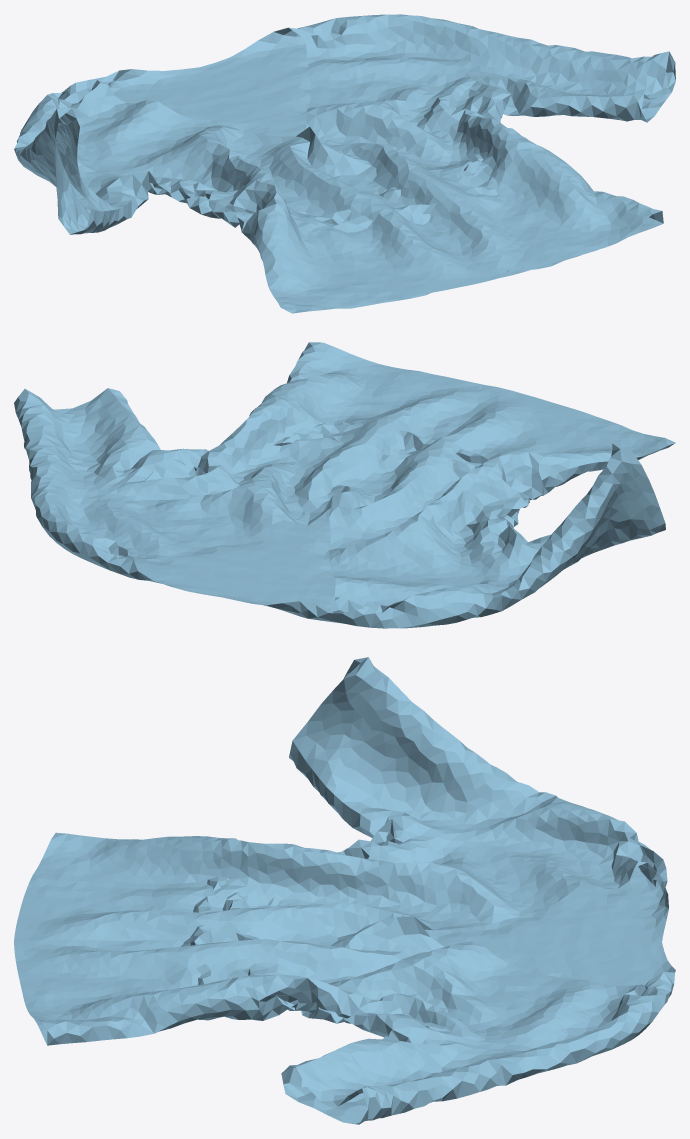
File: frame_06.glb
3 renders of one model, top to bottom at view 1: azimuth 30°, elevation 25°; view 2: azimuth 150°, elevation 25°; view 3: azimuth 270°, elevation 25°, orthographic. The views are drawn at different scales.
Visible parts, largest first — view 1: frame_06.obj; view 2: frame_06.obj; view 3: frame_06.obj.
Part boxes in pixels (bbox=[...]): frame_06.obj: bbox=[14, 14, 675, 313]; frame_06.obj: bbox=[14, 342, 675, 628]; frame_06.obj: bbox=[14, 657, 675, 1124].
Bounding box in the file's own units: 1.84 × 0.3526 × 1.48.
